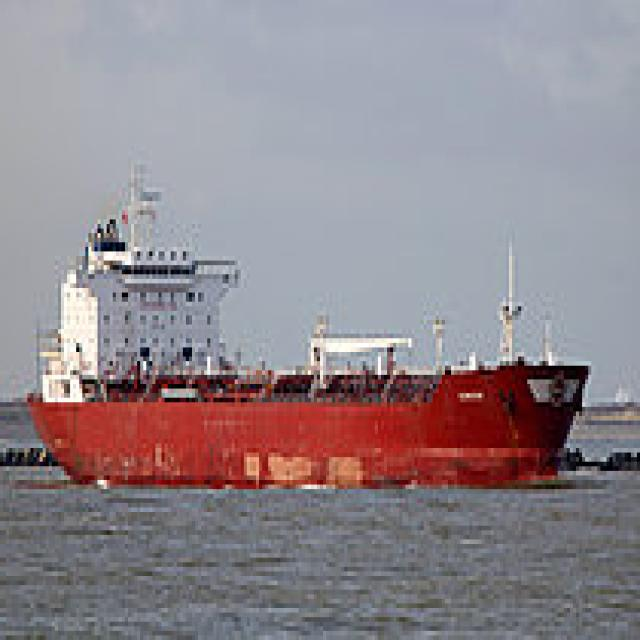Tanker: (28, 156, 594, 484)
